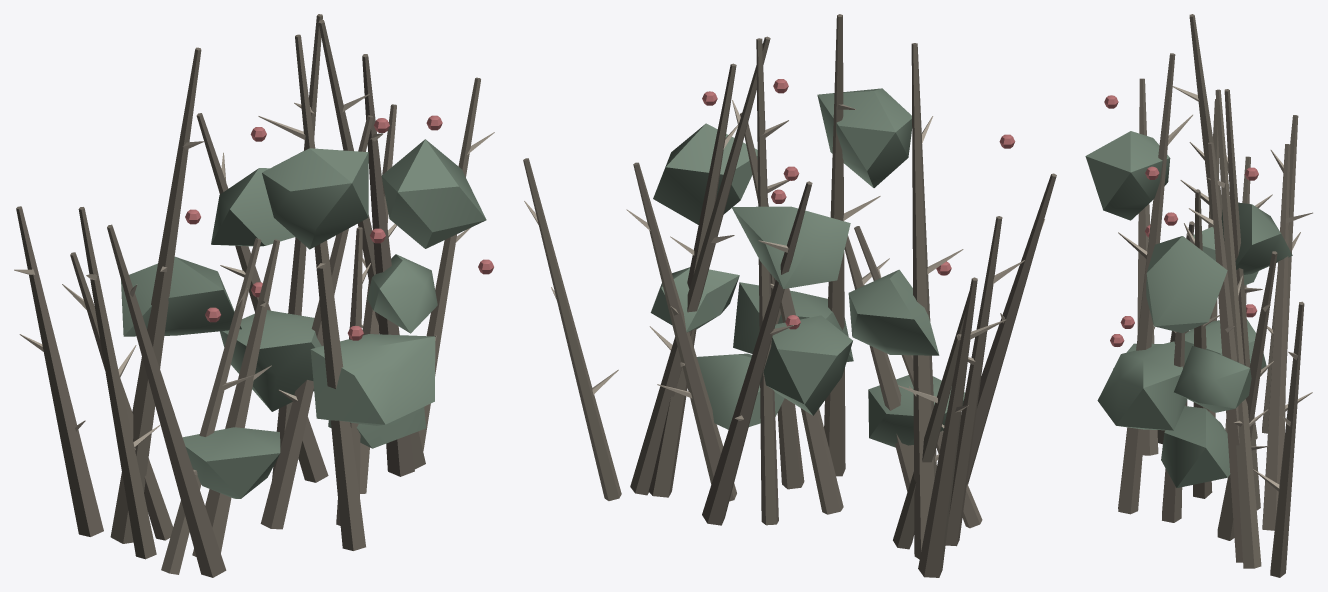
File: dk_bramble.gltf
The picture shows the model from 3 angles, left to right: view 1: azimuth 30°, elevation 25°; view 2: azimuth 150°, elevation 25°; view 3: azimuth 270°, elevation 25°; orthographic projection. The views are drawn at different scales.
Parts seen in each view (by area): view 1: Body; view 2: Body; view 3: Body.
Boxes of the visible parts, x1,y1,x2,y2 form: Body: (14, 14, 494, 577); Body: (523, 14, 1056, 577); Body: (1085, 14, 1312, 577).
Size of the model in its own units: 3.46 by 3.4 by 1.57.
